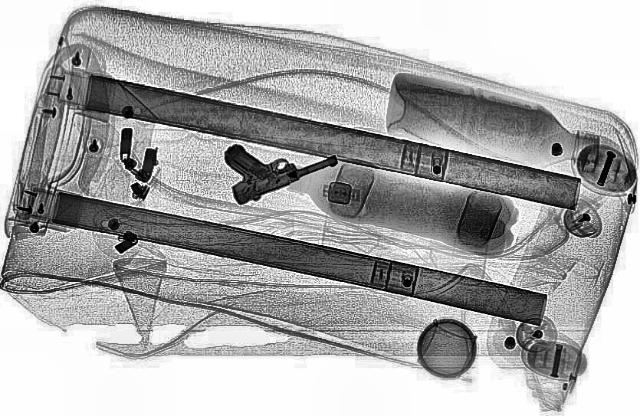Gun: (189, 118, 345, 204)
